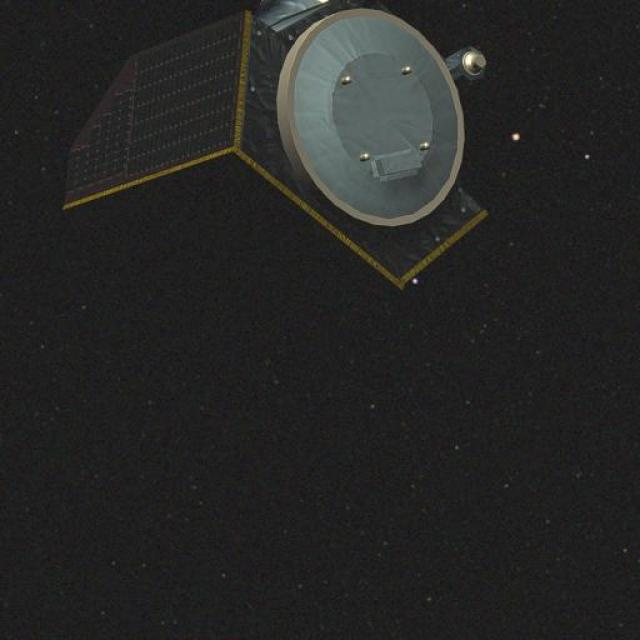cheops: (72, 0, 499, 293)
